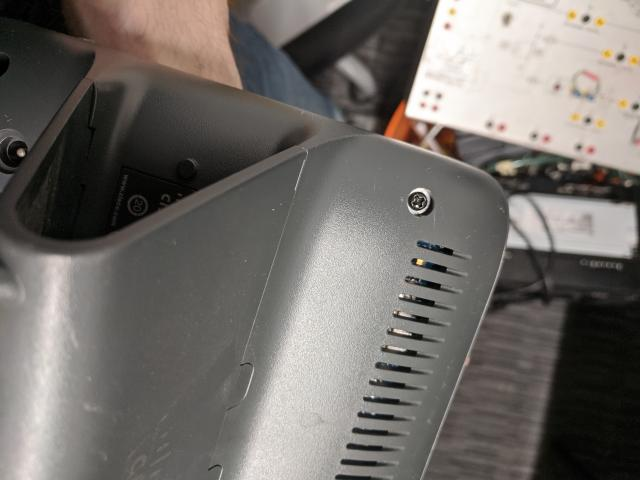CRS: (409, 191, 428, 210)
